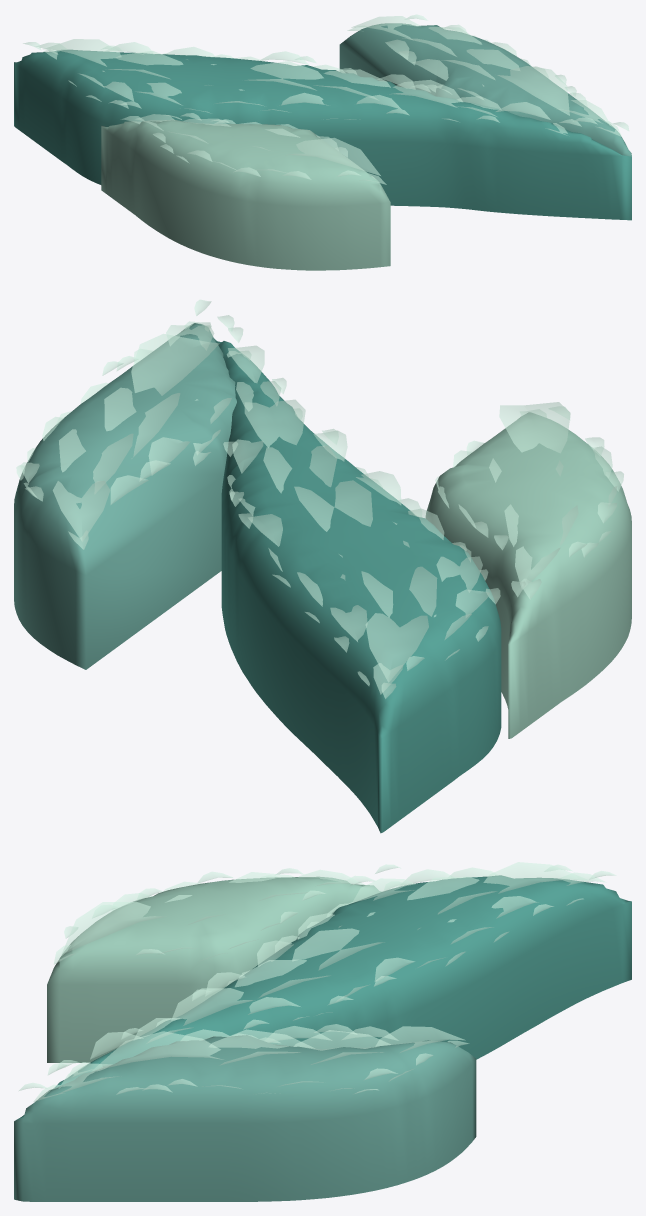
File: calm-hero.glb
3 renders of one model, top to bottom at view 1: azimuth 30°, elevation 25°; view 2: azimuth 150°, elevation 25°; view 3: azimuth 270°, elevation 25°, orthographic. The views are drawn at different scales.
Visible parts, largest first — view 1: hero_n, hero_hojas; view 2: hero_n, hero_hojas; view 3: hero_n, hero_hojas.
Part boxes in pixels (x1,y1,x2,y2): hero_n: (14,23,631,270); hero_hojas: (23,14,629,184); hero_n: (14,323,631,833); hero_hojas: (16,299,623,698); hero_n: (14,875,631,1201); hero_hojas: (19,862,616,1101).
Size of the model in its own units: 1.71 by 0.4736 by 2.
